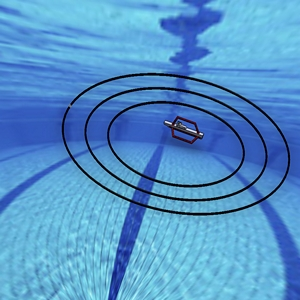circle: (60, 60, 296, 222)
submarine: (158, 110, 204, 151)
